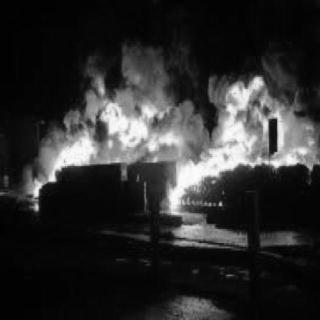Fire: (28, 57, 320, 220)
